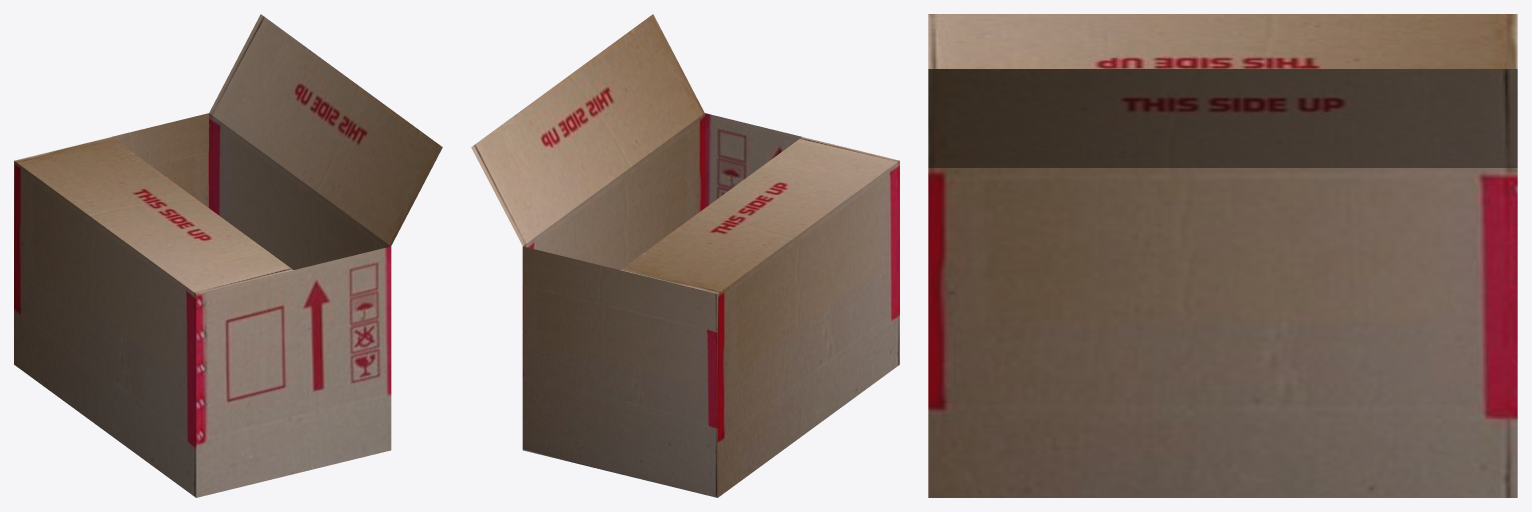
Rendered from box_storage.obj.
3 views of the same model, side by side, from view 1: azimuth 30°, elevation 25°; view 2: azimuth 150°, elevation 25°; view 3: azimuth 270°, elevation 25° (orthographic). The views are drawn at different scales.
Visible parts, largest first — view 1: Mesh1 Untitled__2_1 Model; view 2: Mesh1 Untitled__2_1 Model; view 3: Mesh1 Untitled__2_1 Model.
Boxes of the visible parts, bbox=[...] form: Mesh1 Untitled__2_1 Model: bbox=[14, 14, 442, 497]; Mesh1 Untitled__2_1 Model: bbox=[471, 14, 899, 497]; Mesh1 Untitled__2_1 Model: bbox=[928, 14, 1517, 497].
Bounding box in the file's own units: 24.91 × 28.03 × 31.85.
2 materials, 1 textured.
